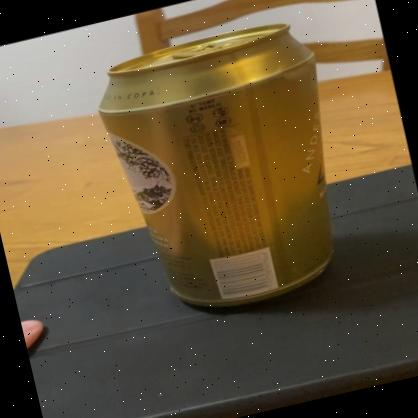can: (87, 14, 367, 328)
